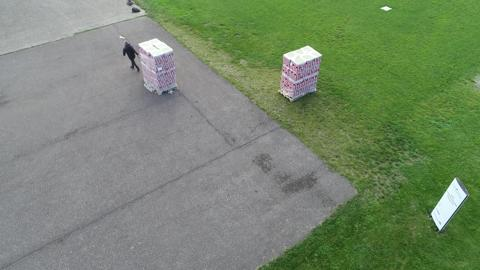RockwoolPallet: (142, 36, 176, 95)
